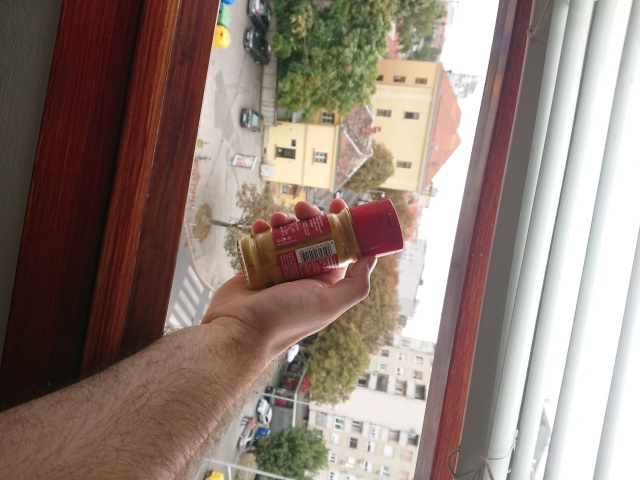Kotanyi Curry Spices Mix 70g: (234, 196, 406, 292)
